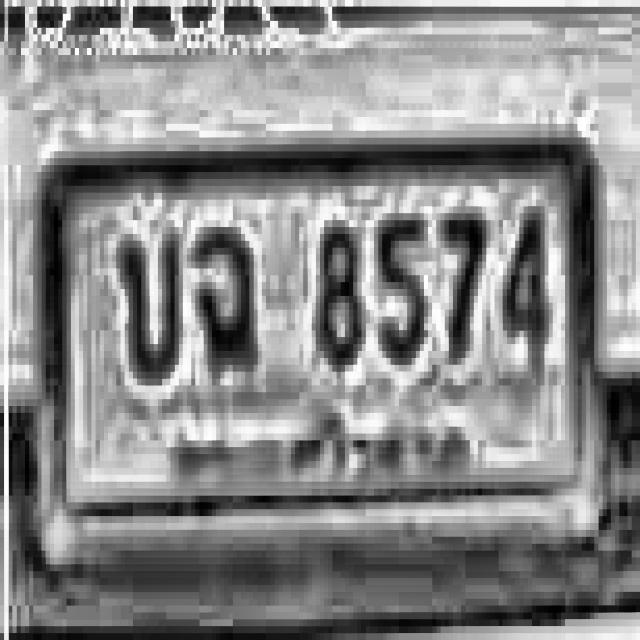license-plate: (32, 130, 607, 570)
